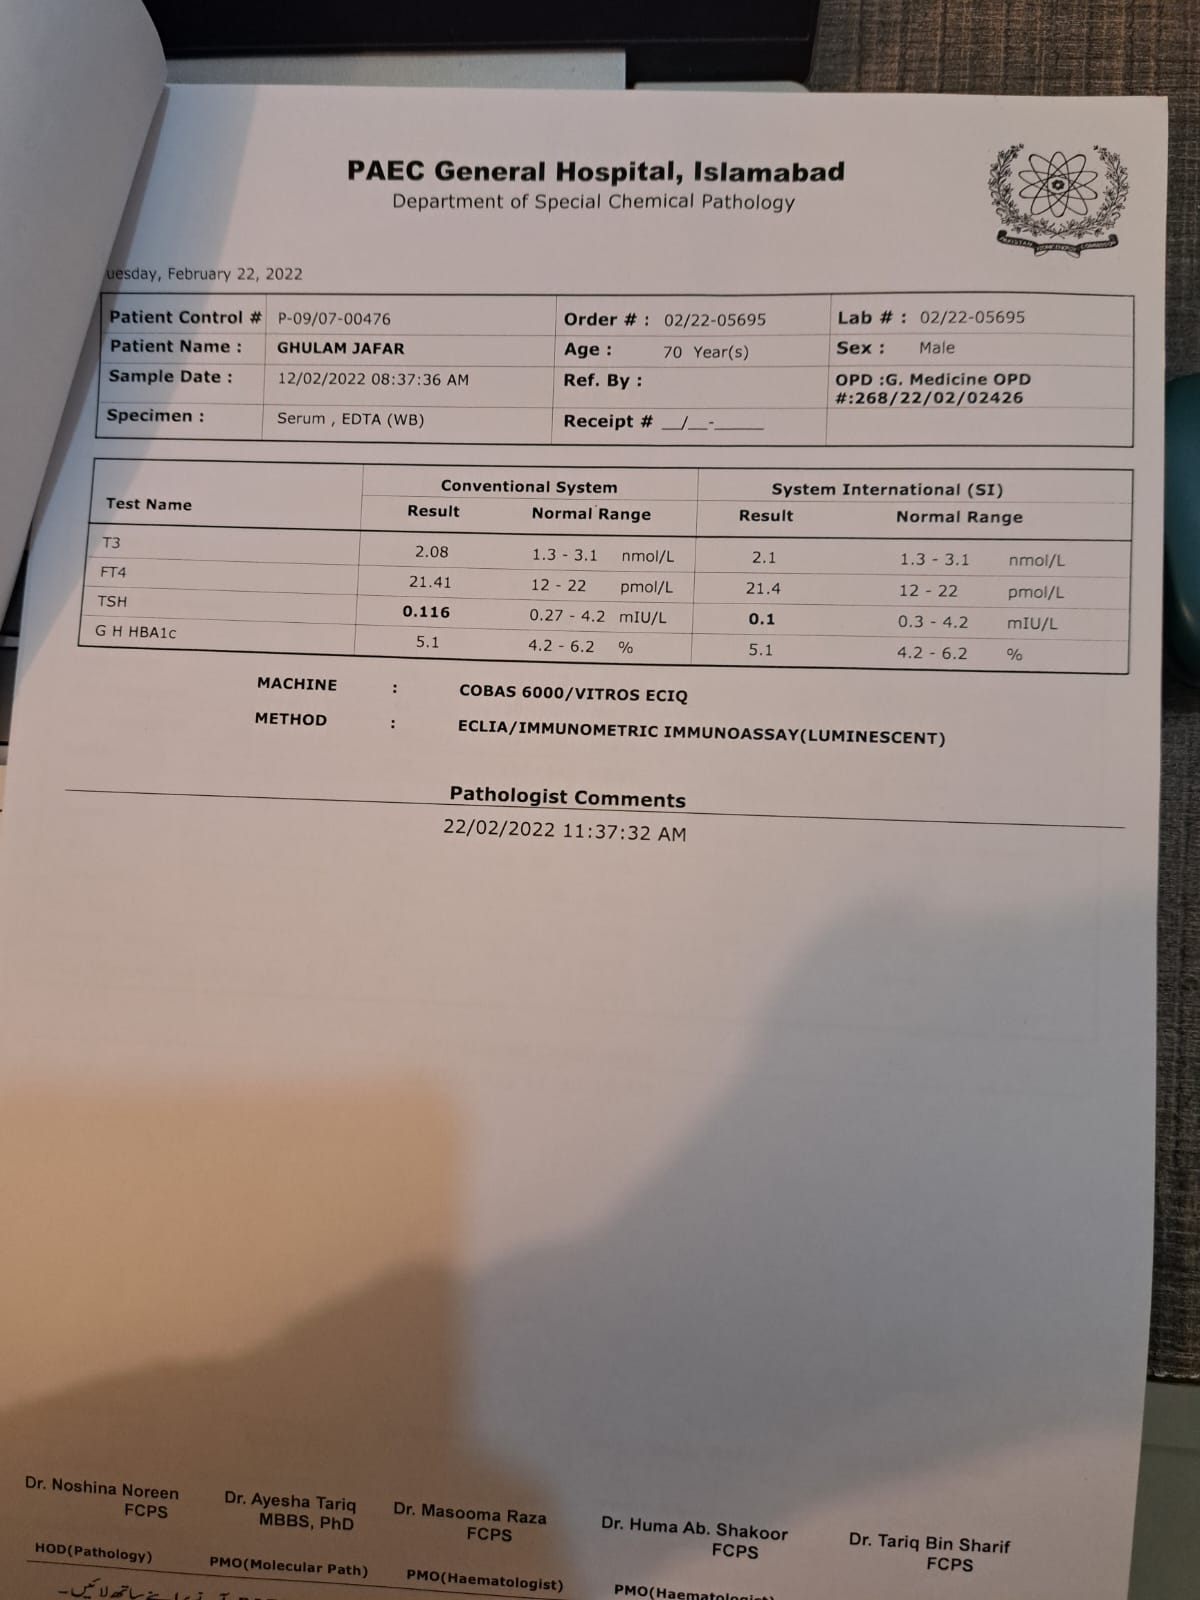report: (73, 455, 1141, 673)
